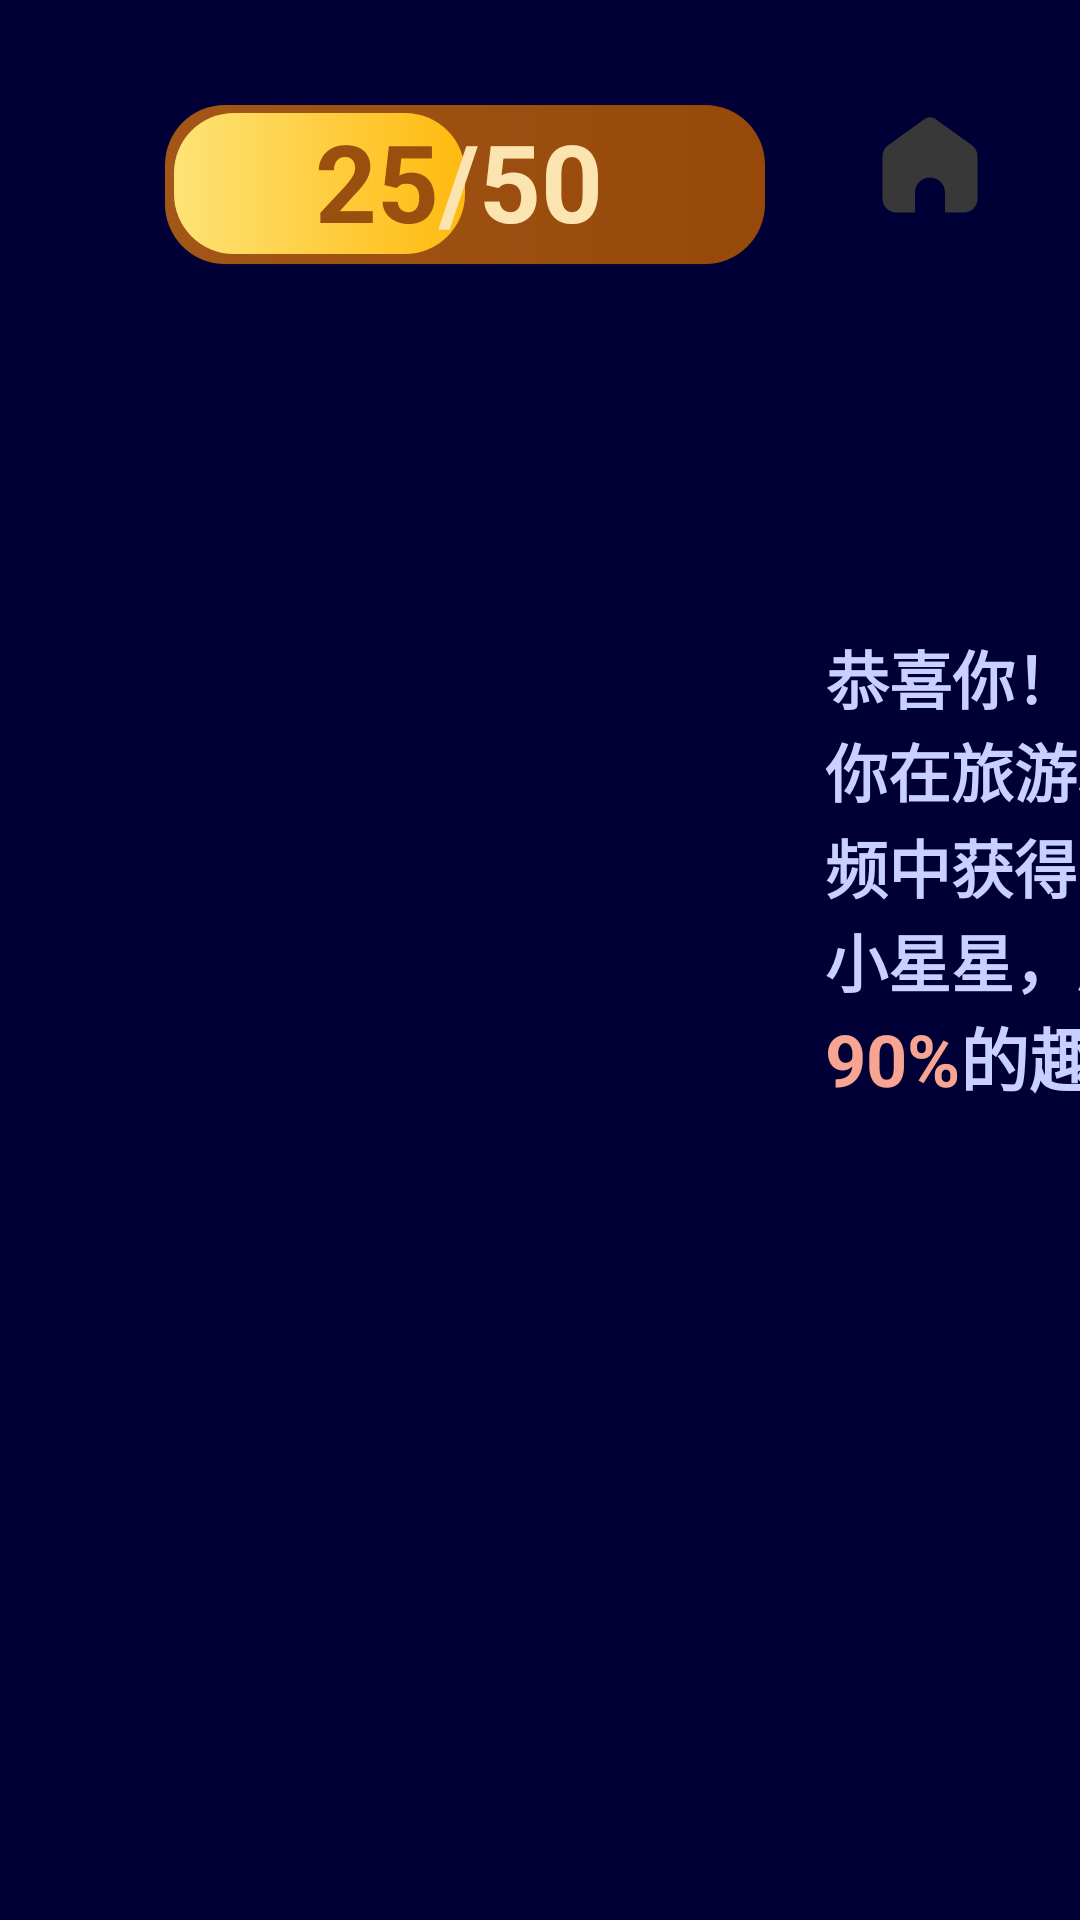

Locate icon controls on the screen. Image size 1080 × 1920, boxes as bbox=(x1, y1, x2, y2).
home: bbox=(882, 117, 978, 213)
